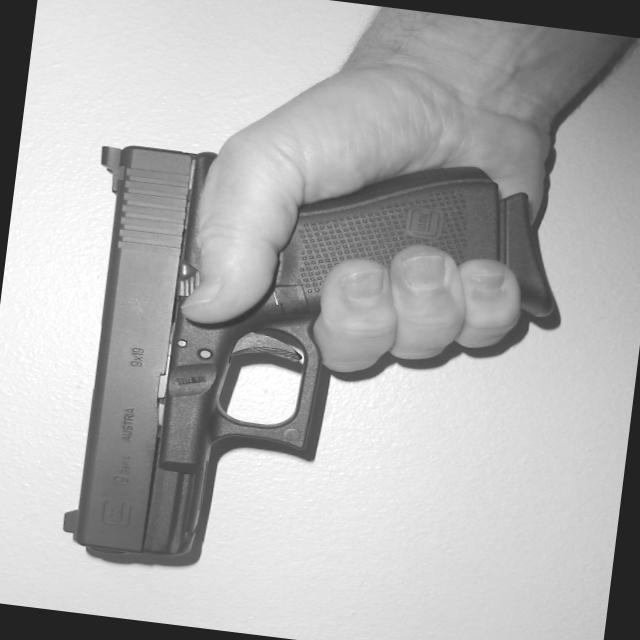handgun: (53, 119, 575, 606)
